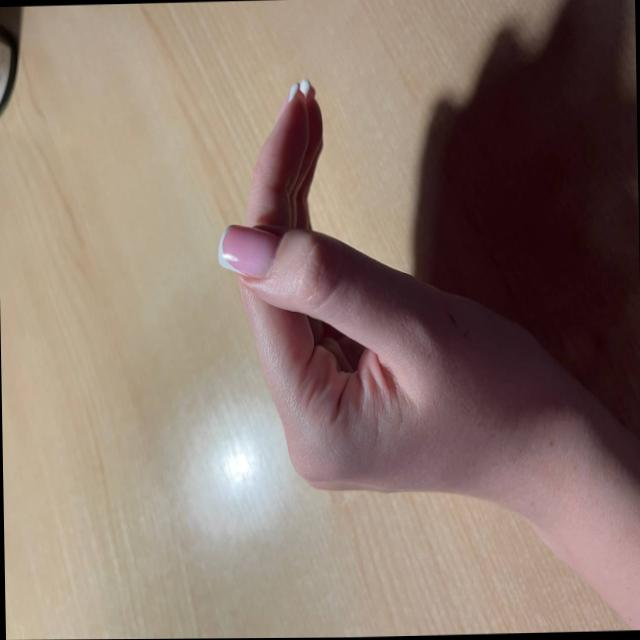f: (209, 74, 515, 514)
